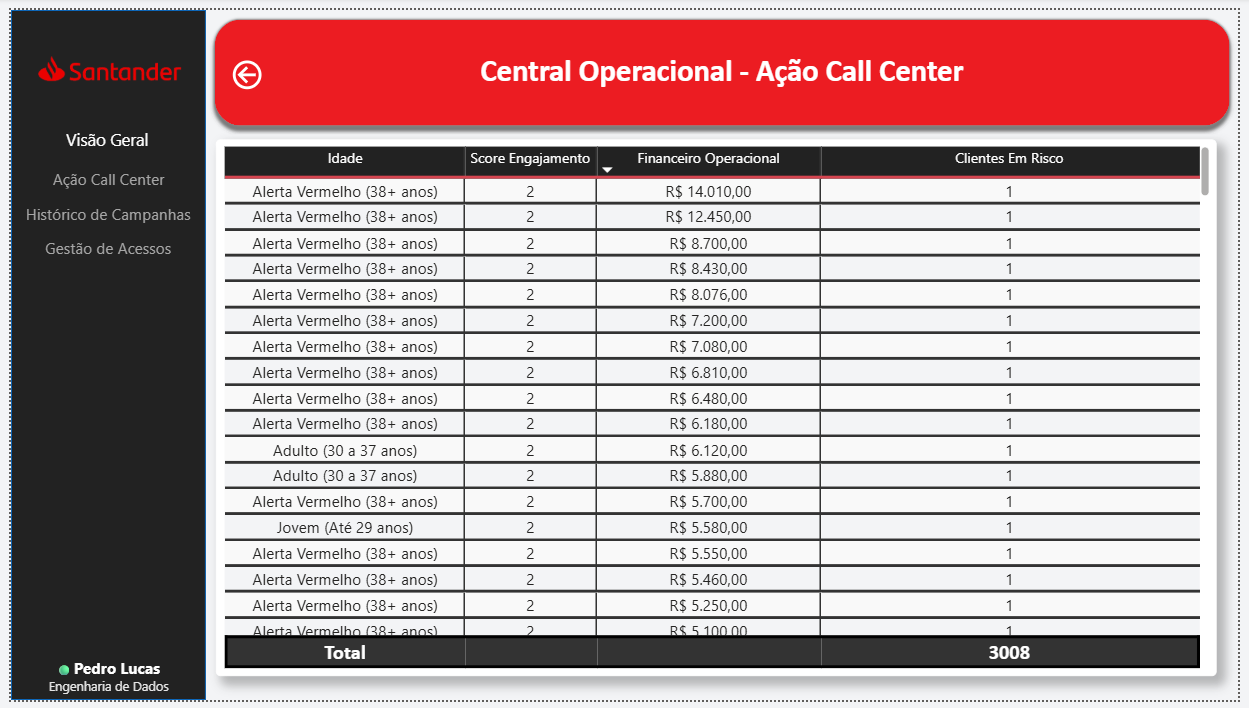

What the dashboard file says about the page in this screenshot:
{"tool":"powerbi","page":{"name":"Call Center","canvas":[1280,720],"ordinal":1},"visuals":[{"type":"tableEx","fields":{"Values":["public vw_analise_churn_santander.segmento_idade","public vw_analise_churn_santander.score_engajamento","public vw_analise_churn_santander.volume_financeiro_operacional","public vw_analise_churn_santander.Clientes_Em_Risco"]},"box":[213.8,135.5,1044.6,559.9],"z":0},{"type":"actionButton","box":[0,113.8,203.8,42.5],"z":1000},{"type":"shape","box":[0,0,203.3,720],"z":2000},{"type":"image","box":[1.2,23.8,203.8,81.2],"z":3000},{"type":"actionButton","box":[0,113.3,201,43],"z":4000},{"type":"actionButton","box":[0,156,204,38],"z":5000},{"type":"textbox","box":[0,670,203.8,50],"z":6000},{"type":"shape","box":[203.3,1.7,1076.7,128.3],"z":7000},{"type":"textbox","box":[225.5,39.3,1033.4,56.4],"z":8000},{"type":"textbox","box":[0,196.4,203.3,56.4],"z":9000},{"type":"textbox","box":[0,232.2,203,42],"z":10000},{"type":"actionButton","box":[226,48,100,40],"z":10001}]}

Visuals, with their boxes on the page's 1280x720 design canvas (x1, y1, x2, y2). These are canvas units, not pixel positions in the 1249x708 screenshot, which may show the page scaled, cropped or inside an application window:
tableEx - public vw_analise_churn_santander.segmento_idade x public vw_analise_churn_santander.score_engajamento: 214:136:1258:695
actionButton: 0:114:204:156
shape: 0:0:203:720
image: 1:24:205:105
actionButton: 0:113:201:156
actionButton: 0:156:204:194
textbox: 0:670:204:720
shape: 203:2:1280:130
textbox: 226:39:1259:96
textbox: 0:196:203:253
textbox: 0:232:203:274
actionButton: 226:48:326:88
